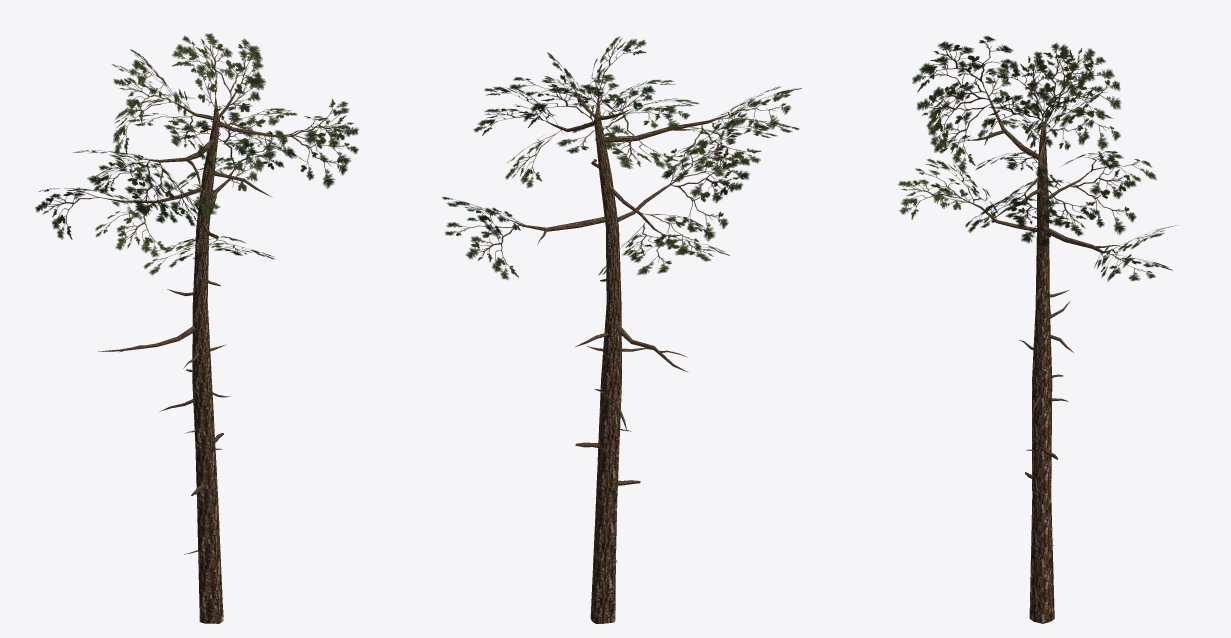
File: scots_pine.glb
The picture shows the model from 3 angles, left to right: view 1: azimuth 30°, elevation 25°; view 2: azimuth 150°, elevation 25°; view 3: azimuth 270°, elevation 25°; orthographic projection. The views are drawn at different scales.
Visible parts, largest first — view 1: scots_pine; view 2: scots_pine; view 3: scots_pine.
Boxes of the visible parts, box(x1,y1,x2,y2) form: scots_pine: box(35, 33, 358, 623); scots_pine: box(442, 36, 801, 623); scots_pine: box(898, 35, 1176, 623).
Size of the model in its own units: 3.59 by 6.1 by 3.39.
Materials: 3 (3 with a texture image).
